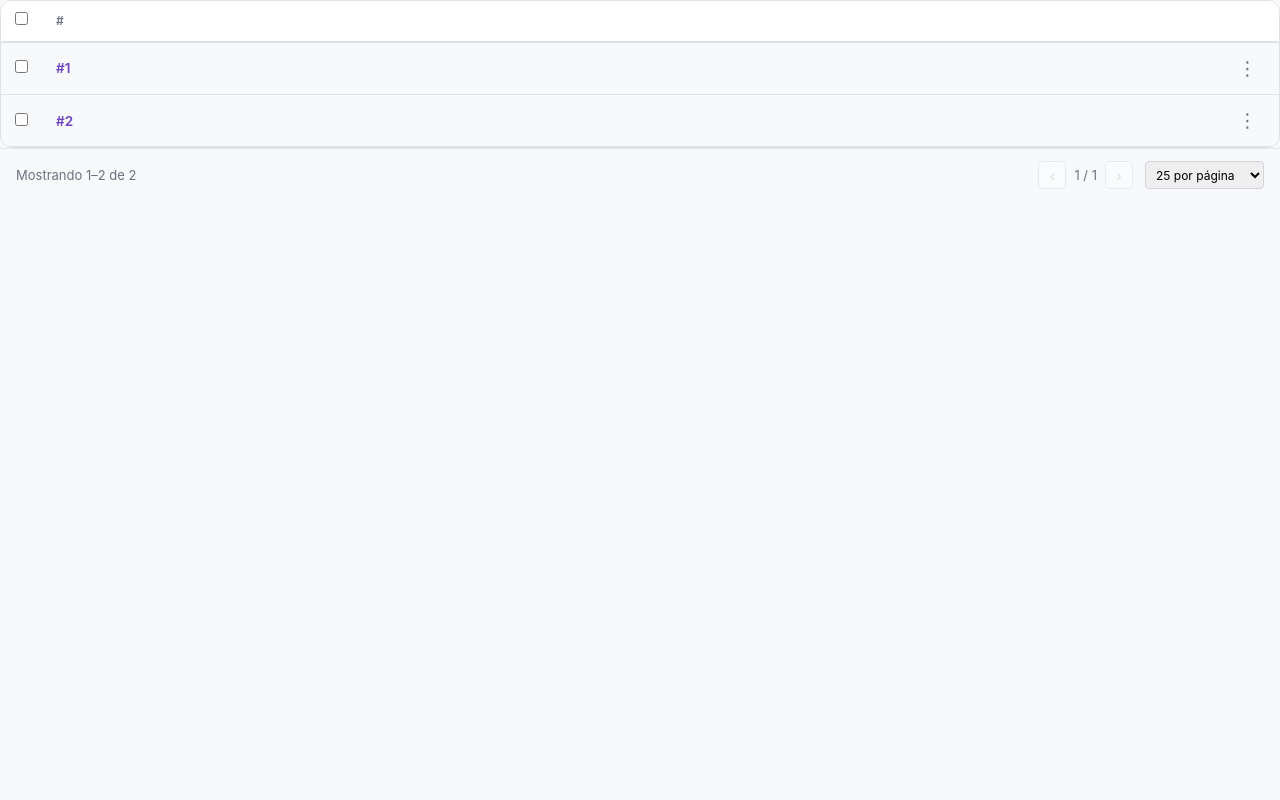
it: TasksTableView — bulk close gating + error handling (#41) › shows an error toast and keeps the selection when a close in the loop fails
The width and height of the screenshot is (1280, 800).
Click the checkbox named "Seleccionar todos" at (22, 18), box [15,12,28,25]
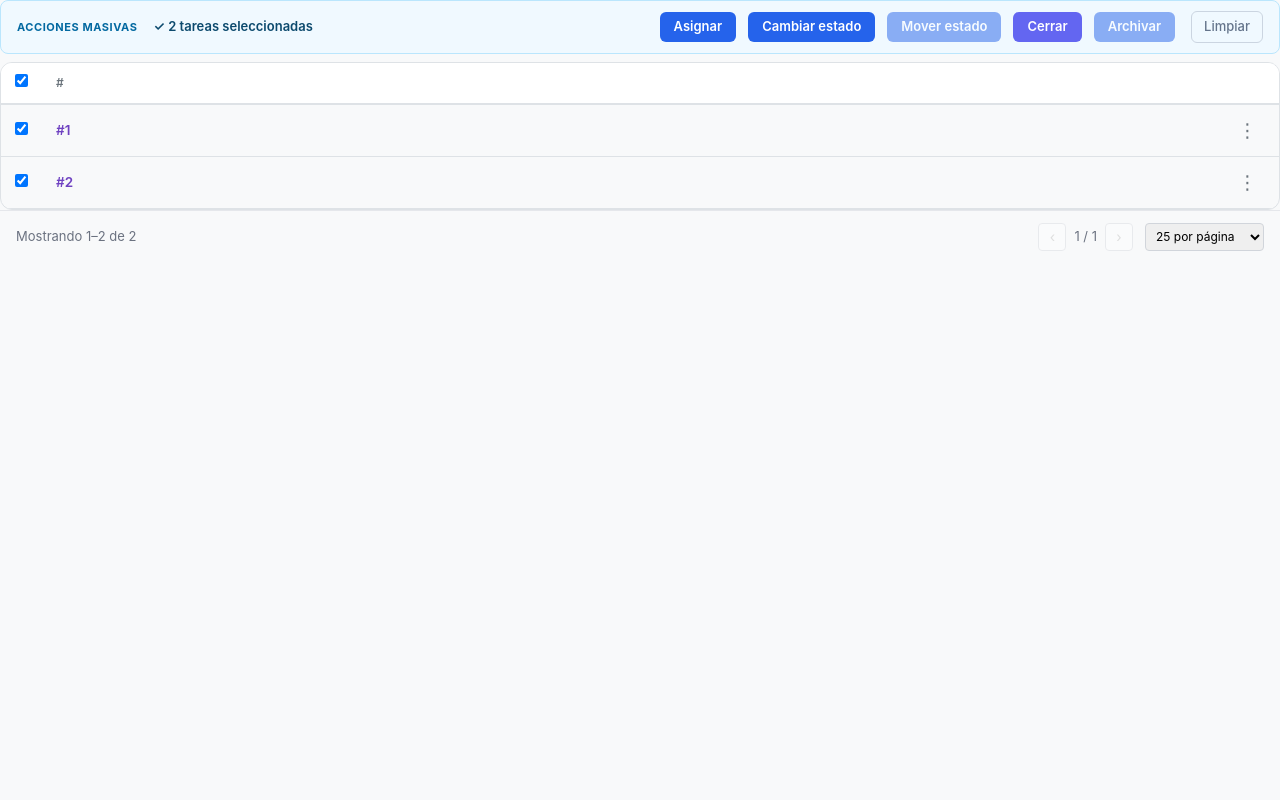
Expected: the button with test id "bulk-close-btn" is shown
Click the button with test id "bulk-close-btn" at (1048, 27), box [1014,12,1082,42]
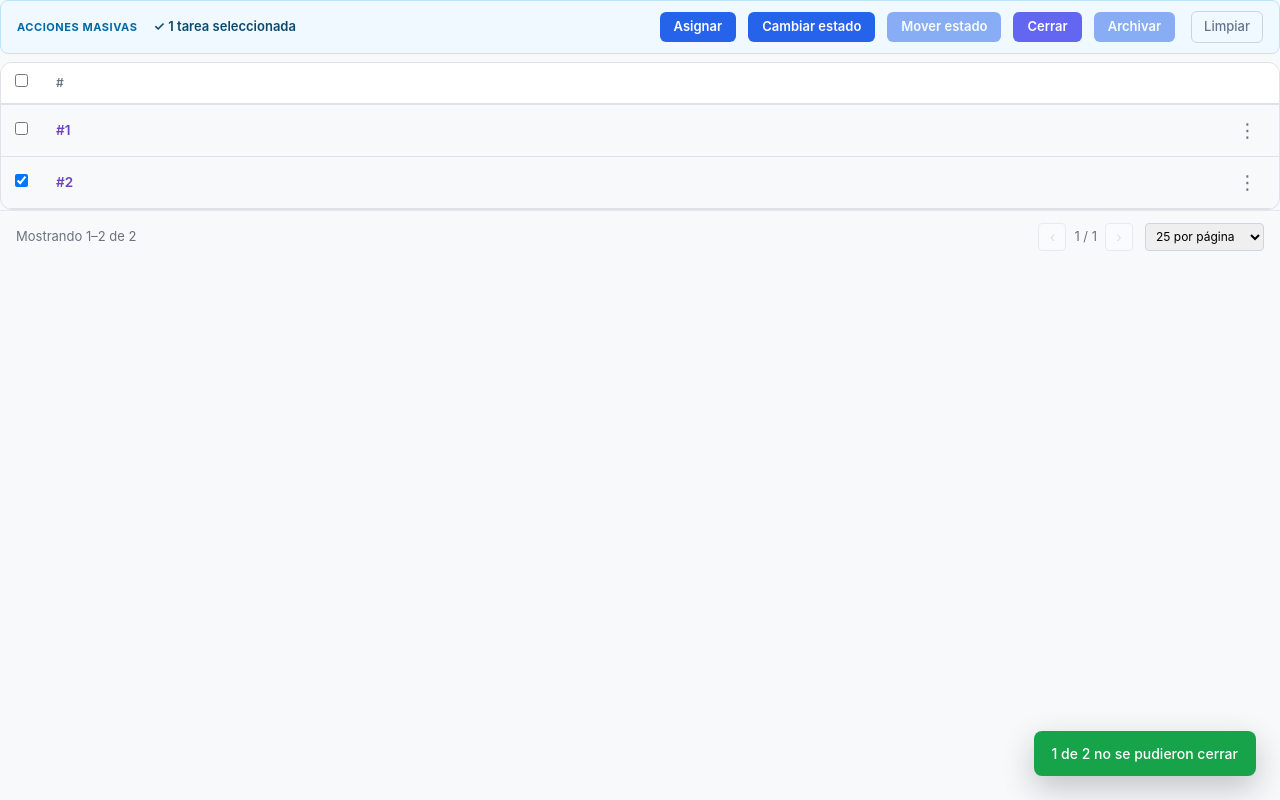
Expected: the element with test id "bulk-action-bar" is shown, [0,0,1279,54]
Expected: the button with test id "bulk-close-btn" is shown, [1014,12,1082,42]
Expected: the message reads "1 de 2 no se pudieron cerrar", [1052,745,1238,762]
